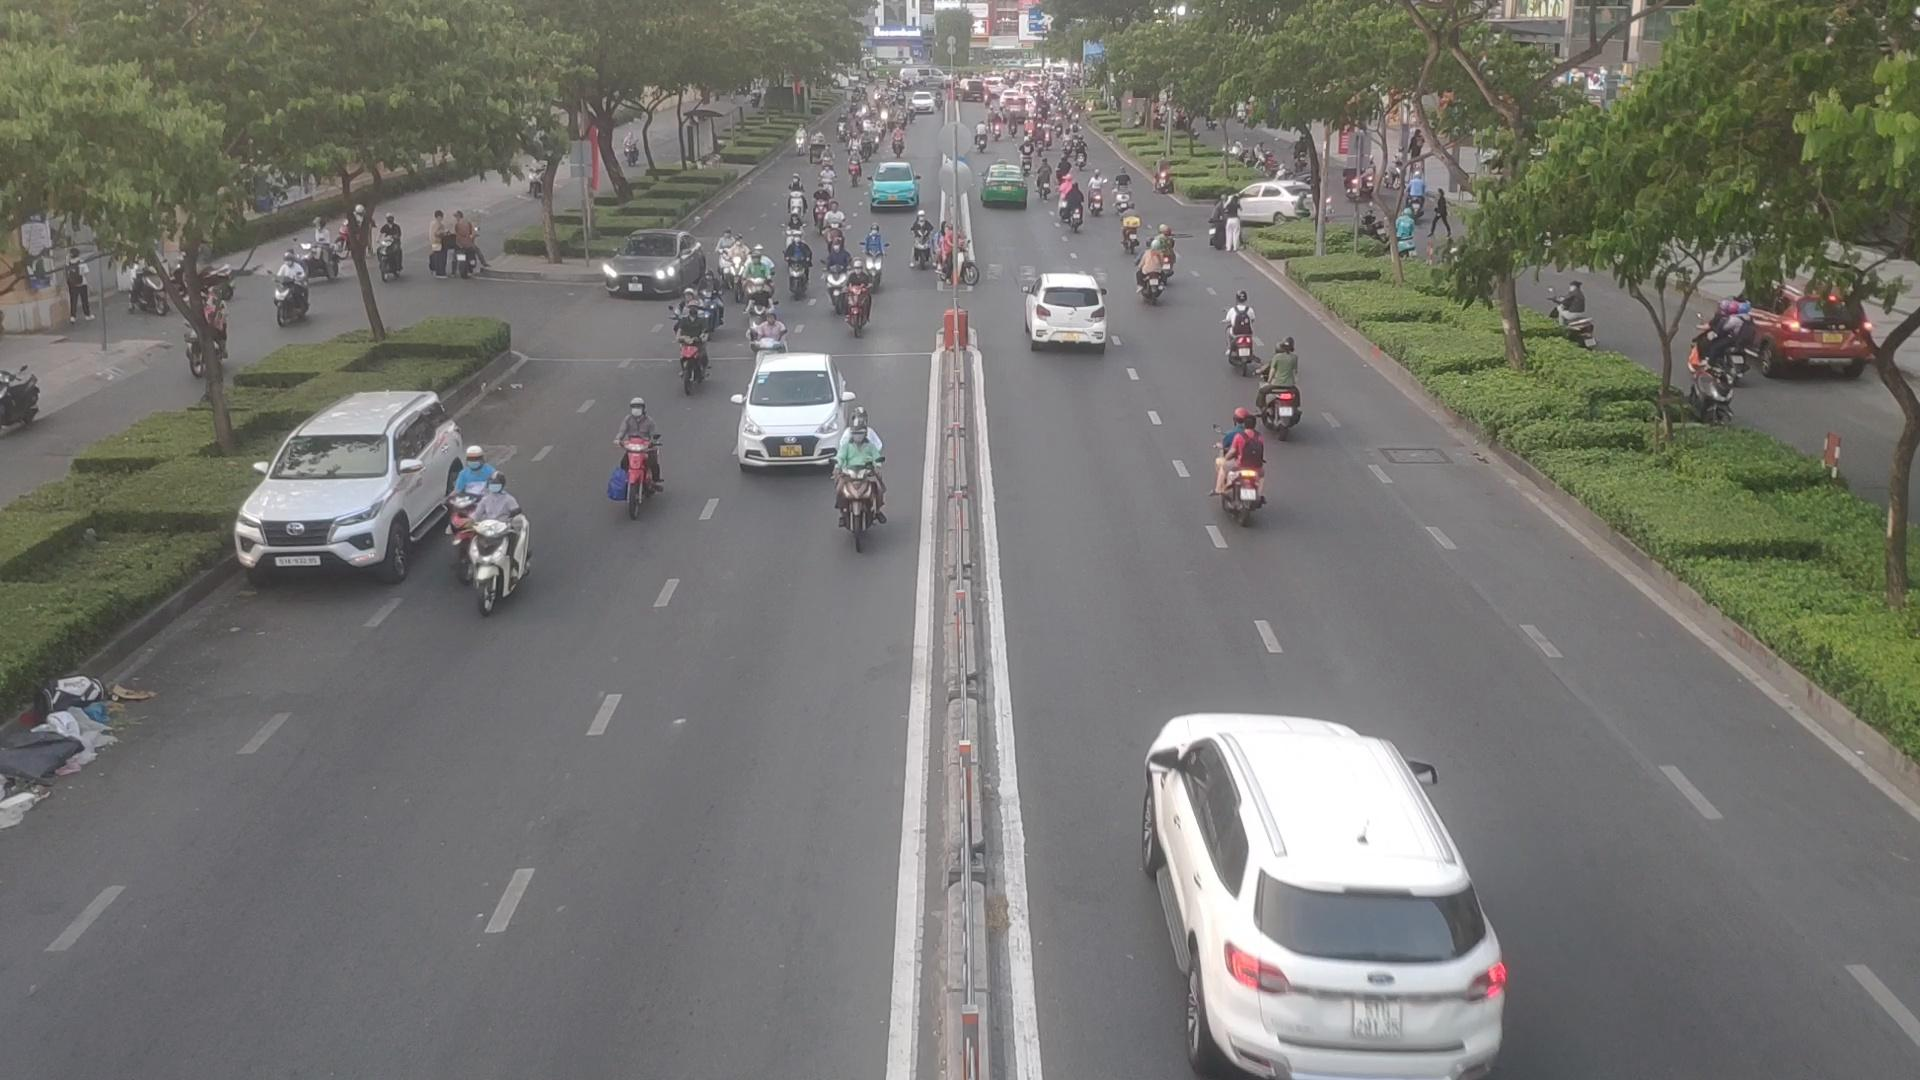car: (1150, 713, 1511, 1077), (229, 392, 477, 587), (729, 357, 848, 467), (1753, 301, 1876, 385), (603, 232, 713, 302), (1025, 272, 1113, 349), (1228, 186, 1307, 225), (866, 160, 922, 208)
motorbike: (827, 404, 895, 556), (608, 390, 669, 525), (475, 479, 534, 613), (1211, 404, 1269, 520), (444, 442, 495, 564), (1261, 336, 1304, 440), (674, 305, 712, 398), (840, 258, 877, 340), (1228, 280, 1257, 378), (748, 311, 790, 378), (1135, 236, 1168, 306), (708, 225, 738, 287), (824, 243, 851, 311), (673, 284, 702, 345), (1149, 224, 1184, 274), (860, 225, 893, 280), (785, 233, 811, 301), (1116, 206, 1146, 262), (781, 170, 811, 225), (781, 211, 812, 257), (820, 200, 848, 251), (909, 212, 930, 274)
